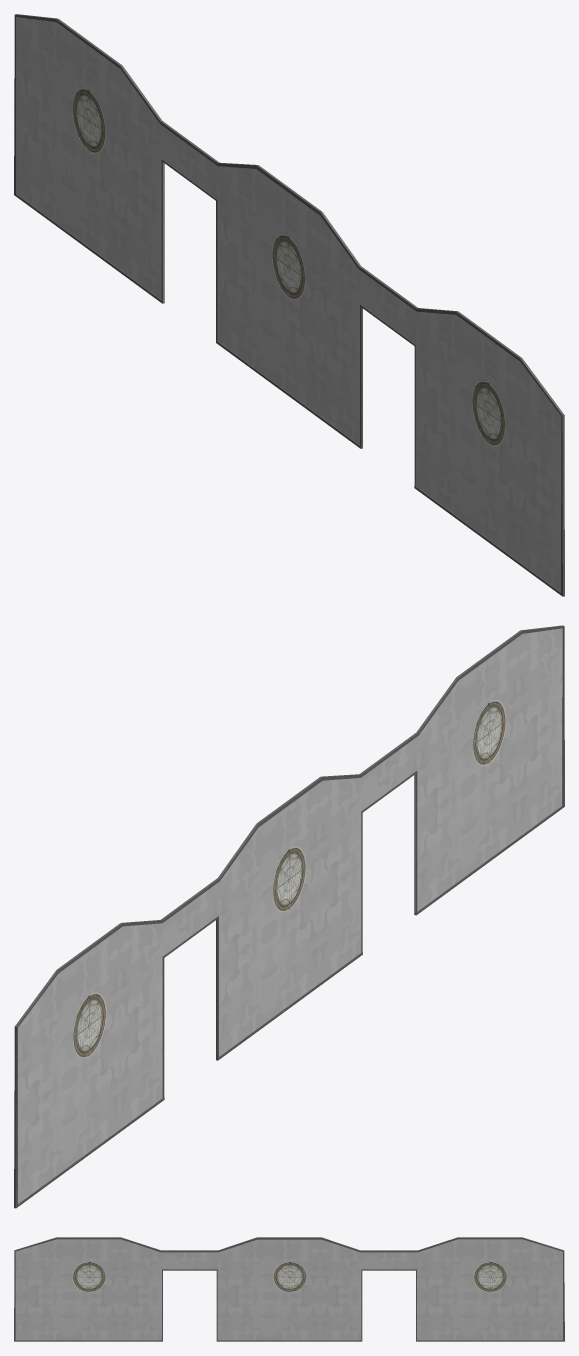
Rendered from Station03WallFront01B.FBX.
3 renders of one model, top to bottom at view 1: azimuth 30°, elevation 25°; view 2: azimuth 150°, elevation 25°; view 3: azimuth 270°, elevation 25°, orthographic. The views are drawn at different scales.
Visible parts, largest first — view 1: Station03WallFront01B, Station03WallFrontMtlB, Station03WallFCircleB; view 2: Station03WallFront01B, Station03WallFrontMtlB, Station03WallFCircleB; view 3: Station03WallFront01B, Station03WallFrontMtlB, Station03WallFCircleB.
Boxes of the visible parts, <box> form: Station03WallFront01B: <box>16,17,561,591</box>; Station03WallFrontMtlB: <box>14,14,564,596</box>; Station03WallFCircleB: <box>72,88,505,446</box>; Station03WallFront01B: <box>18,628,562,1203</box>; Station03WallFrontMtlB: <box>14,625,564,1208</box>; Station03WallFCircleB: <box>73,700,506,1058</box>; Station03WallFront01B: <box>15,1239,562,1340</box>; Station03WallFrontMtlB: <box>14,1237,564,1341</box>; Station03WallFCircleB: <box>72,1261,506,1292</box>.
Bounding box in the file's own units: 4.48 × 425 × 2044.
